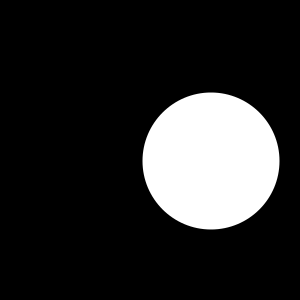rectangle: (142, 92, 280, 229)
